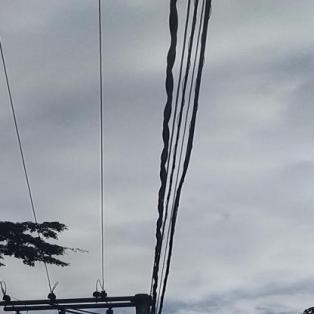Poste: (127, 293, 186, 314)
